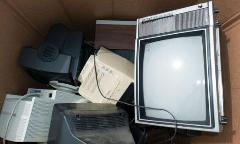electronic: (134, 0, 226, 134)
